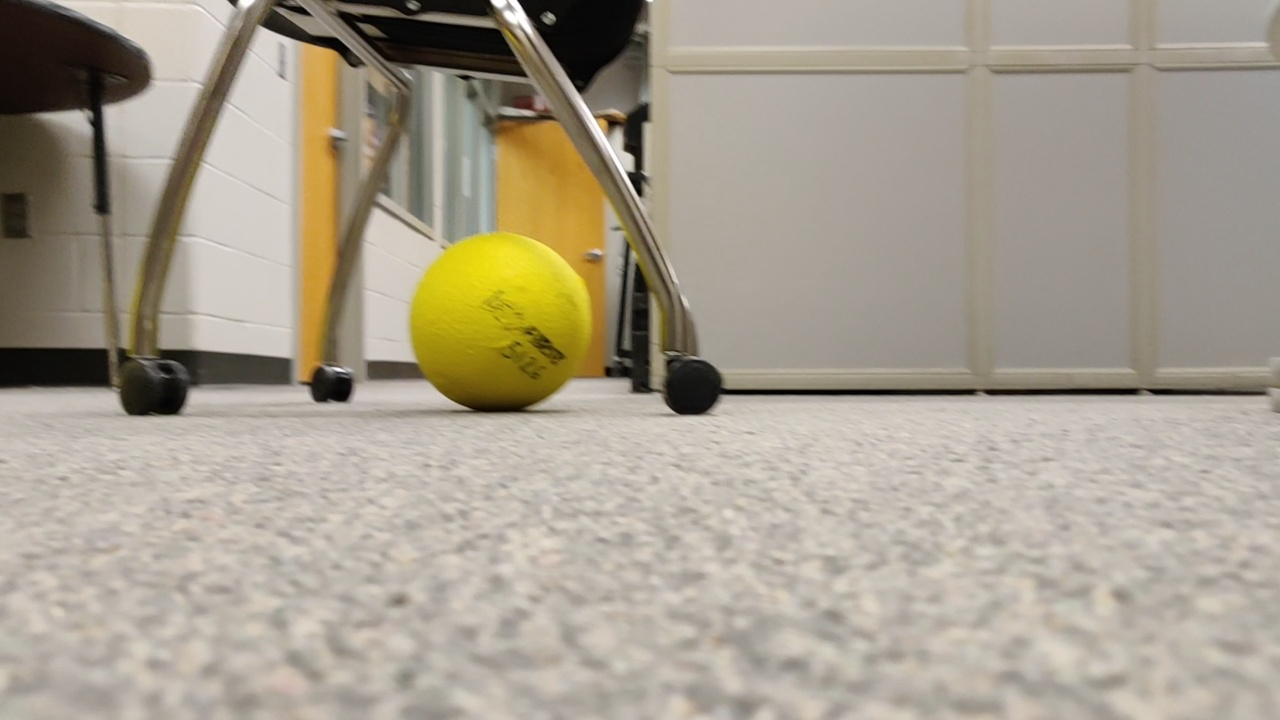Ball: (410, 236, 595, 419)
